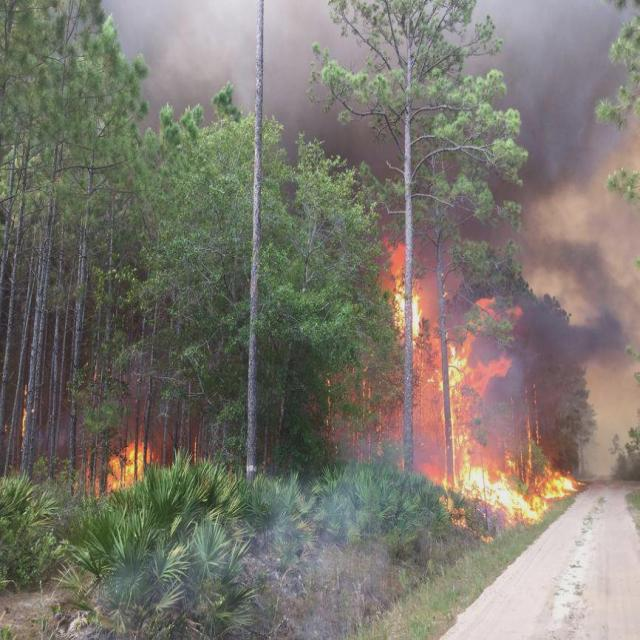Fire: (366, 250, 572, 544), (84, 441, 155, 497), (21, 384, 29, 436), (192, 432, 196, 464)
Smoke: (105, 3, 632, 207)
